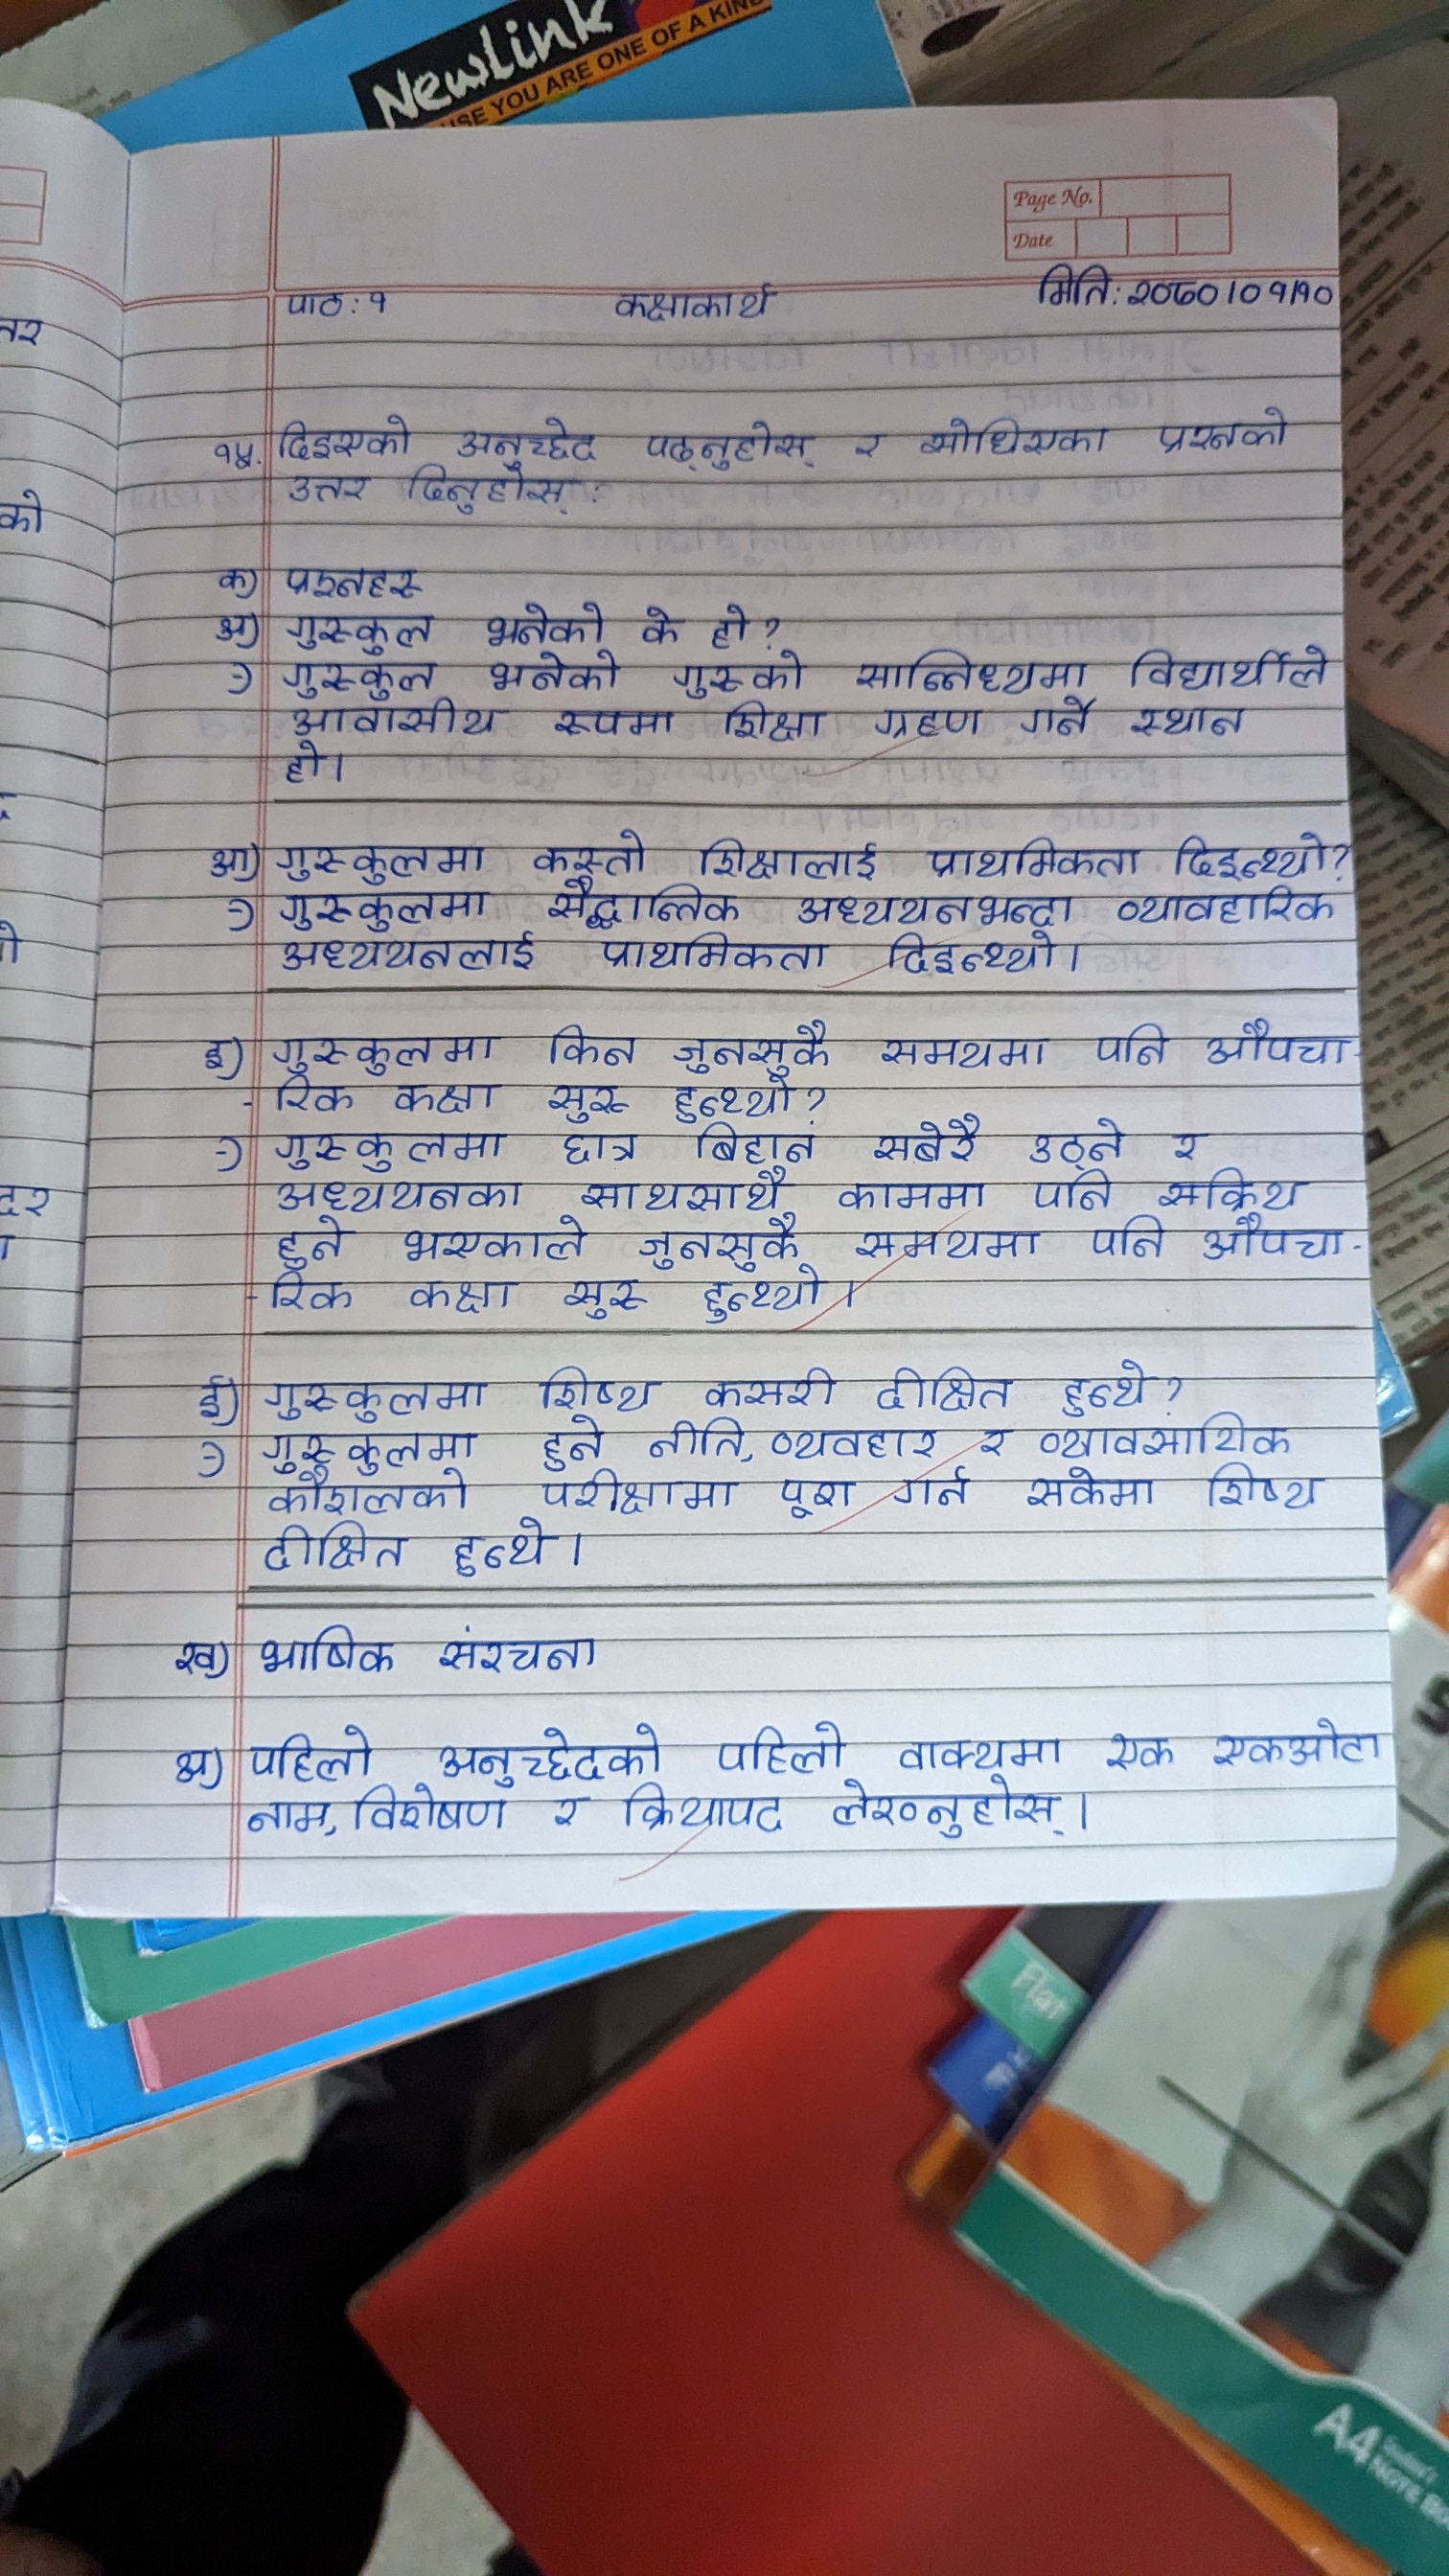text: (826, 1776, 1067, 1840), (437, 1721, 671, 1782), (276, 934, 538, 980), (915, 407, 1115, 467), (791, 885, 1074, 925), (1037, 1414, 1295, 1458), (640, 410, 819, 474), (269, 1125, 506, 1171), (430, 1621, 625, 1675), (271, 1028, 502, 1074), (1120, 640, 1327, 692), (855, 648, 1085, 694), (262, 1376, 488, 1422), (1118, 885, 1348, 927), (614, 1782, 791, 1836), (393, 1215, 593, 1263), (605, 272, 784, 326), (538, 881, 740, 927), (671, 1019, 839, 1074), (1136, 391, 1284, 453), (398, 465, 571, 517), (272, 840, 490, 881), (603, 932, 830, 971), (267, 1177, 527, 1210), (637, 1214, 801, 1267), (276, 890, 490, 931), (694, 835, 890, 879), (285, 699, 497, 740), (856, 1217, 1042, 1263), (1210, 1718, 1382, 1767), (922, 839, 1139, 878), (534, 1472, 738, 1513), (264, 1431, 476, 1470), (251, 1619, 396, 1675), (265, 1474, 467, 1514), (584, 1169, 791, 1208), (251, 1522, 407, 1573), (1162, 830, 1329, 878), (708, 1720, 851, 1775), (271, 407, 412, 460), (352, 1785, 508, 1833), (699, 1269, 824, 1327), (244, 1721, 370, 1780), (885, 931, 1056, 973), (1196, 1215, 1345, 1263), (453, 412, 605, 458), (879, 1028, 1049, 1069), (1203, 1458, 1325, 1514), (890, 1730, 1067, 1769), (1196, 1021, 1350, 1065), (770, 1422, 943, 1461), (287, 607, 430, 653), (1152, 1168, 1306, 1210), (281, 557, 428, 602), (872, 1366, 1008, 1412), (1021, 1111, 1131, 1168), (667, 1076, 800, 1122), (283, 658, 439, 697), (472, 600, 609, 644), (671, 655, 805, 699), (451, 1514, 548, 1575), (1024, 1465, 1155, 1509), (536, 1362, 655, 1410), (835, 1175, 987, 1212), (686, 1123, 819, 1166), (863, 1118, 989, 1162), (527, 830, 651, 872), (699, 1369, 837, 1407), (1131, 701, 1256, 741), (487, 653, 617, 692), (1125, 271, 1224, 320), (540, 1016, 635, 1067), (1060, 1361, 1154, 1412), (872, 704, 984, 747), (1028, 257, 1109, 311), (405, 1274, 518, 1313), (534, 1412, 612, 1468), (717, 702, 835, 740), (644, 1417, 745, 1460), (244, 1792, 336, 1838), (271, 1214, 350, 1265), (561, 1276, 648, 1320), (389, 1079, 501, 1113), (267, 1274, 359, 1315), (538, 1079, 628, 1120), (550, 706, 679, 734), (285, 471, 373, 511), (1088, 1214, 1168, 1258), (1014, 697, 1099, 738), (269, 1076, 357, 1115), (777, 1474, 855, 1518), (897, 1467, 973, 1511), (1104, 1727, 1177, 1773), (276, 281, 350, 326), (1092, 1026, 1168, 1069), (1030, 1169, 1115, 1207), (839, 412, 890, 469), (202, 423, 260, 471), (704, 596, 754, 651), (561, 1131, 639, 1162), (173, 1635, 223, 1684), (280, 743, 333, 789), (170, 1736, 216, 1789), (195, 1368, 232, 1431), (633, 600, 685, 646), (209, 559, 264, 600), (205, 839, 255, 883), (1237, 269, 1292, 308), (361, 274, 400, 326), (189, 1037, 226, 1083), (548, 1792, 589, 1833), (207, 610, 249, 644), (1295, 278, 1334, 313), (973, 1422, 1012, 1458), (1171, 1123, 1203, 1162)
